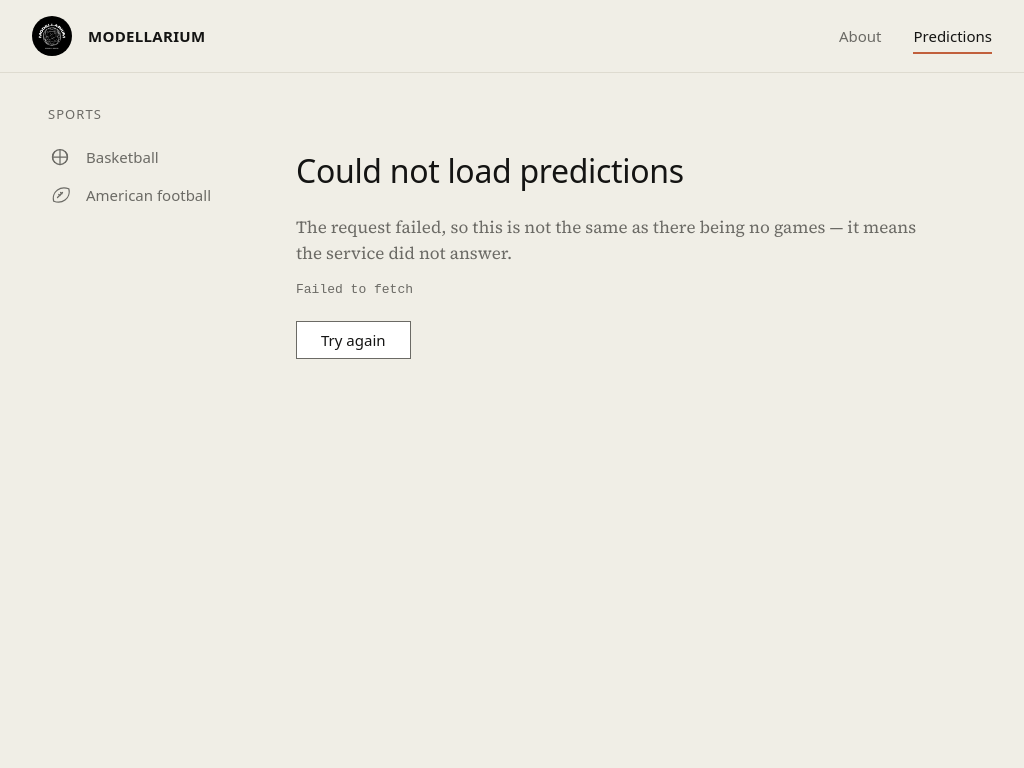
Scenario: data states › error: retry re-issues the request
Click the button "Try again" at (353, 340), box left=296, top=322, right=410, bottom=360
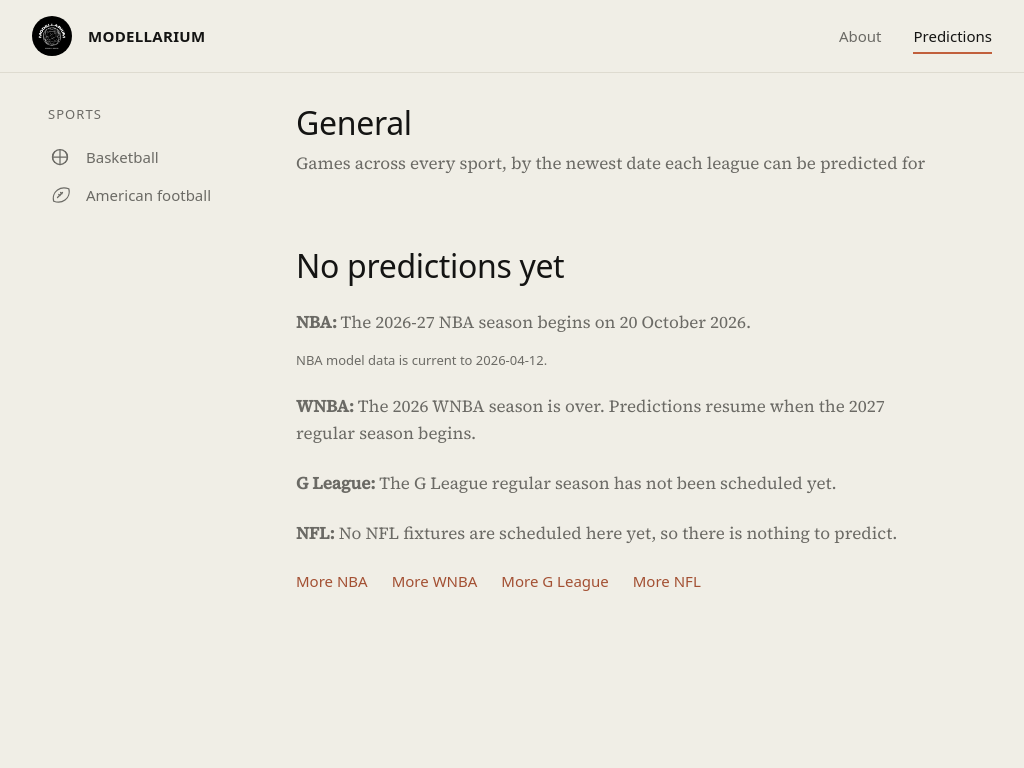
Check: the heading "No predictions yet" is shown, box left=296, top=244, right=564, bottom=287
